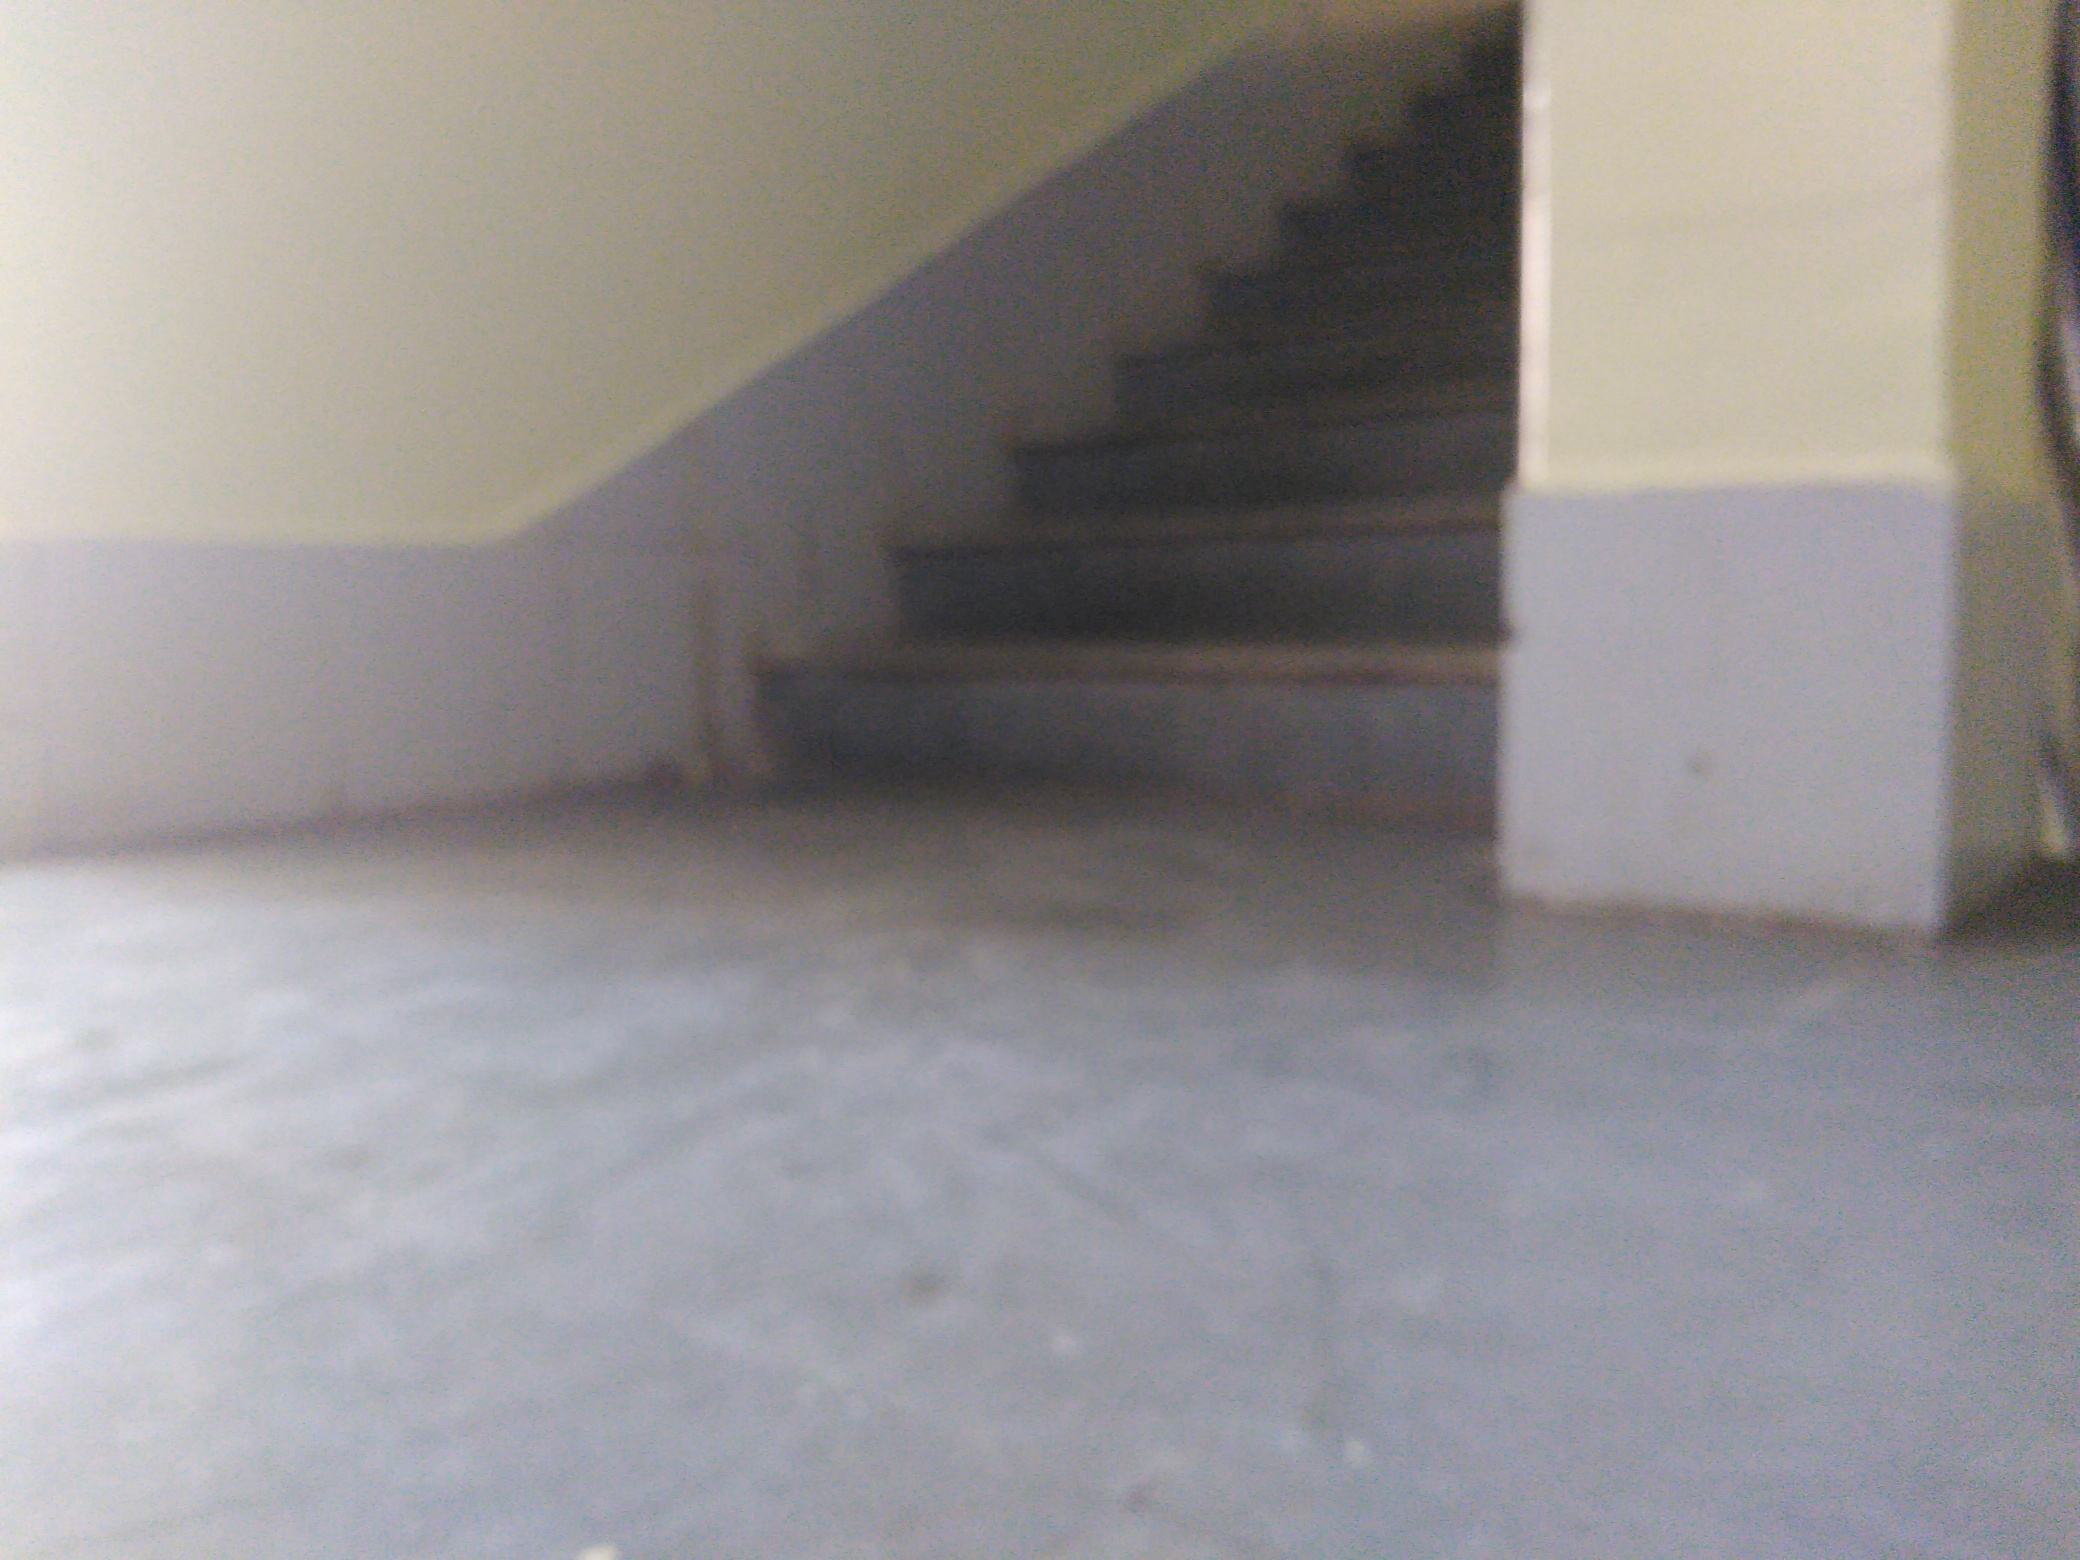stairs_up: (712, 28, 1518, 823)
